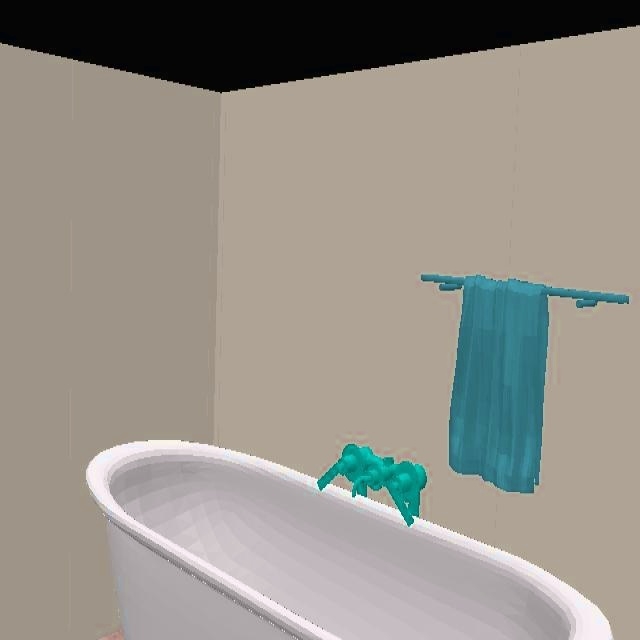bathtube: (84, 440, 616, 640)
